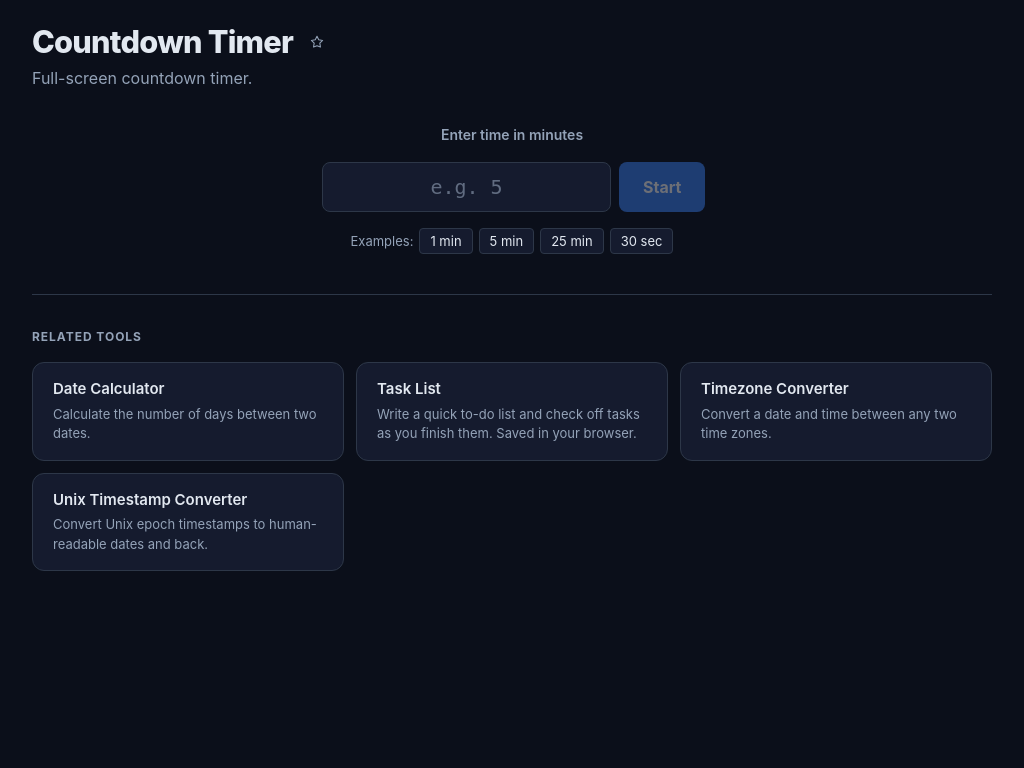
it: CountdownTimer — overlay › Stop button closes the overlay
Type "5" into the field named "timer duration" at [466, 187], box [322,162,611,212]
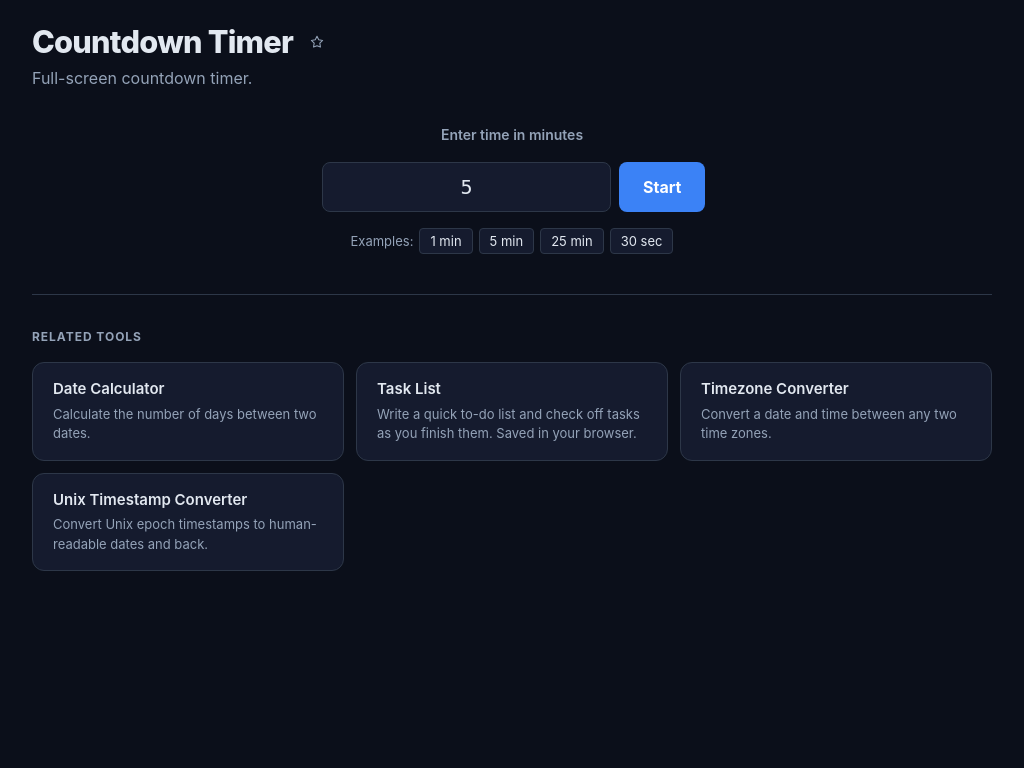
Submit the form named "timer duration", box [322,124,702,254]
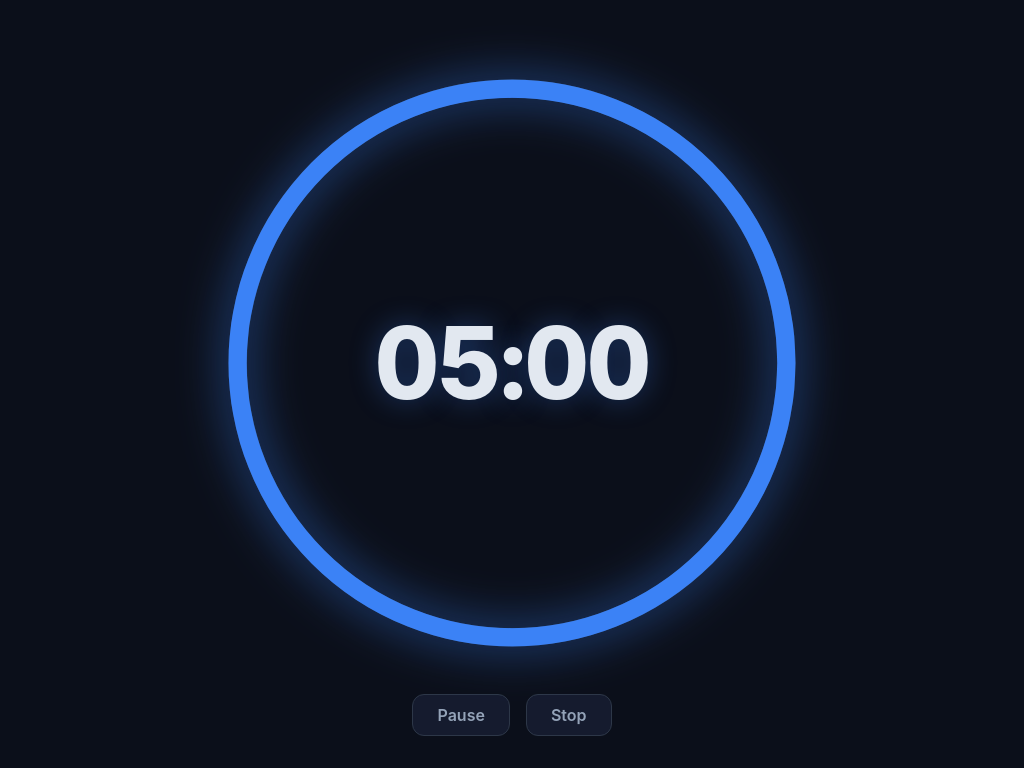
Click the button "Stop" at [569, 715], box [526,694,612,736]
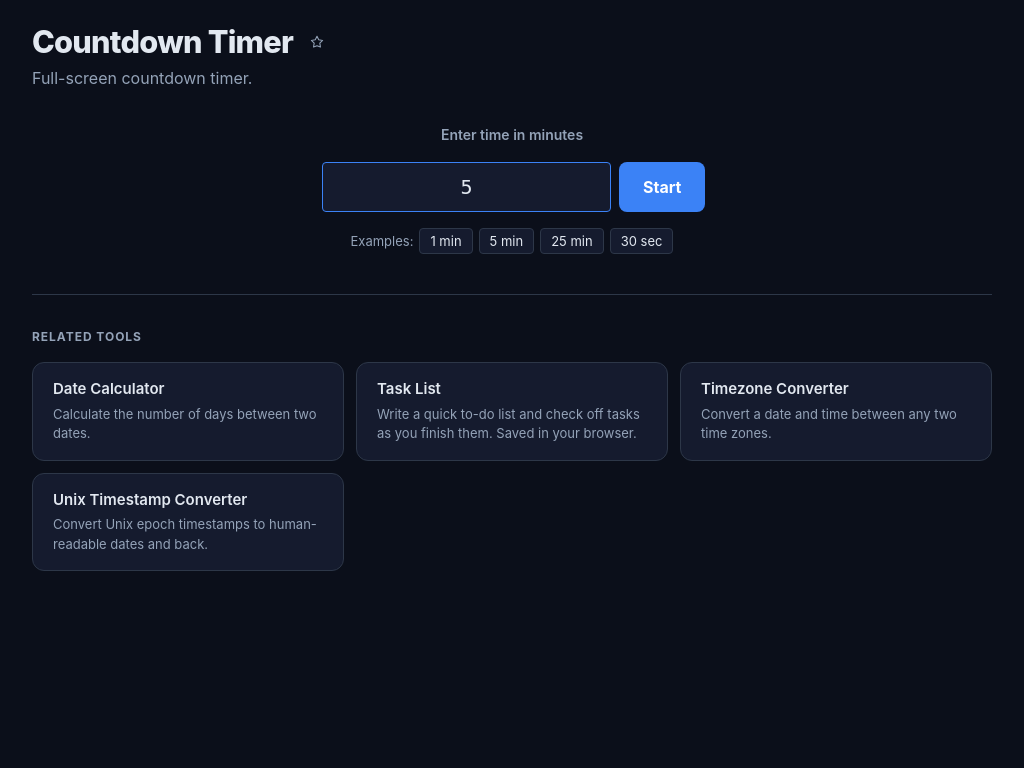
Expected: the dialog is gone
